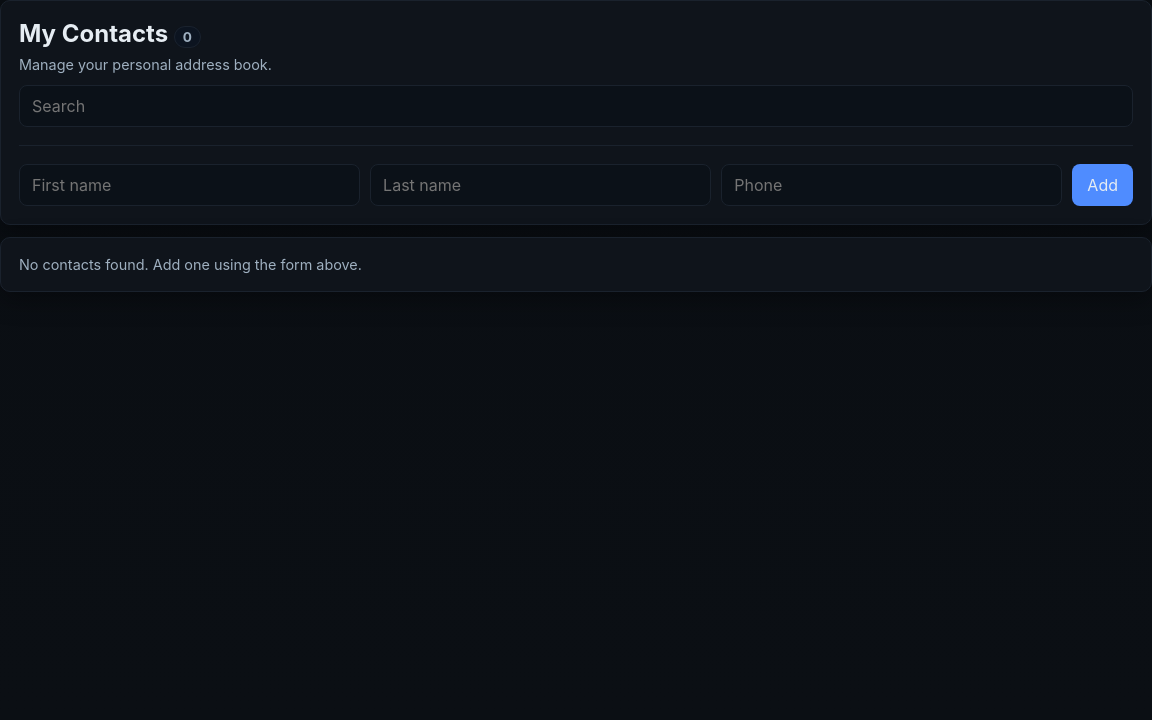
<Contacts /> › surfaces error when create fails
Expected: the text "No contacts found. Add one using the form above." is shown, [19,256,362,273]
Type "Dup" into the field with placeholder "First name" at (190, 185), box [19,164,360,206]
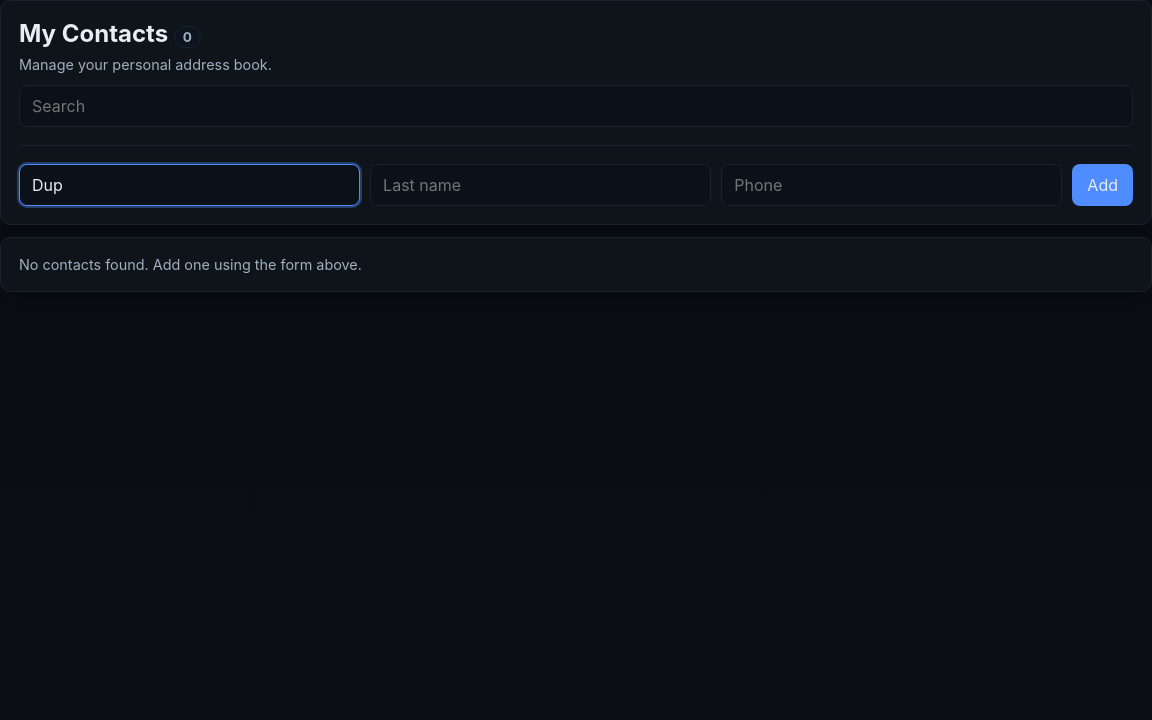
Type "X" into the field with placeholder "Last name" at (541, 185), box [370,164,711,206]
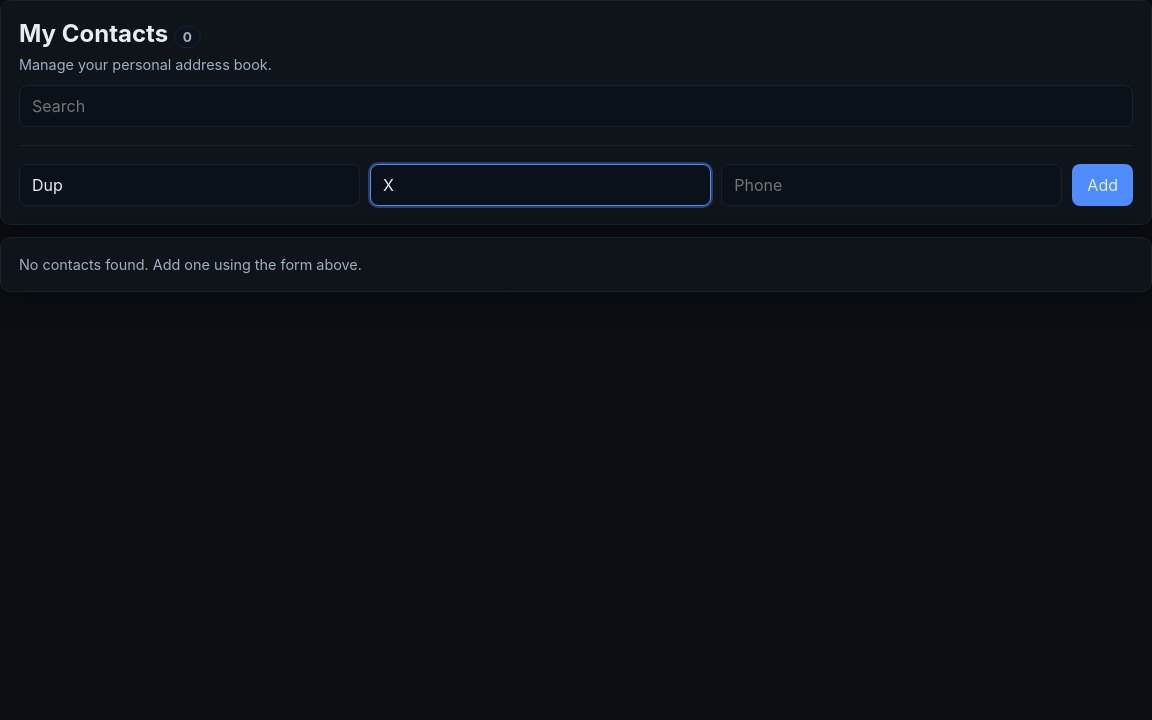
Type "0600000001" into the field with placeholder "Phone" at (892, 185), box [721,164,1062,206]
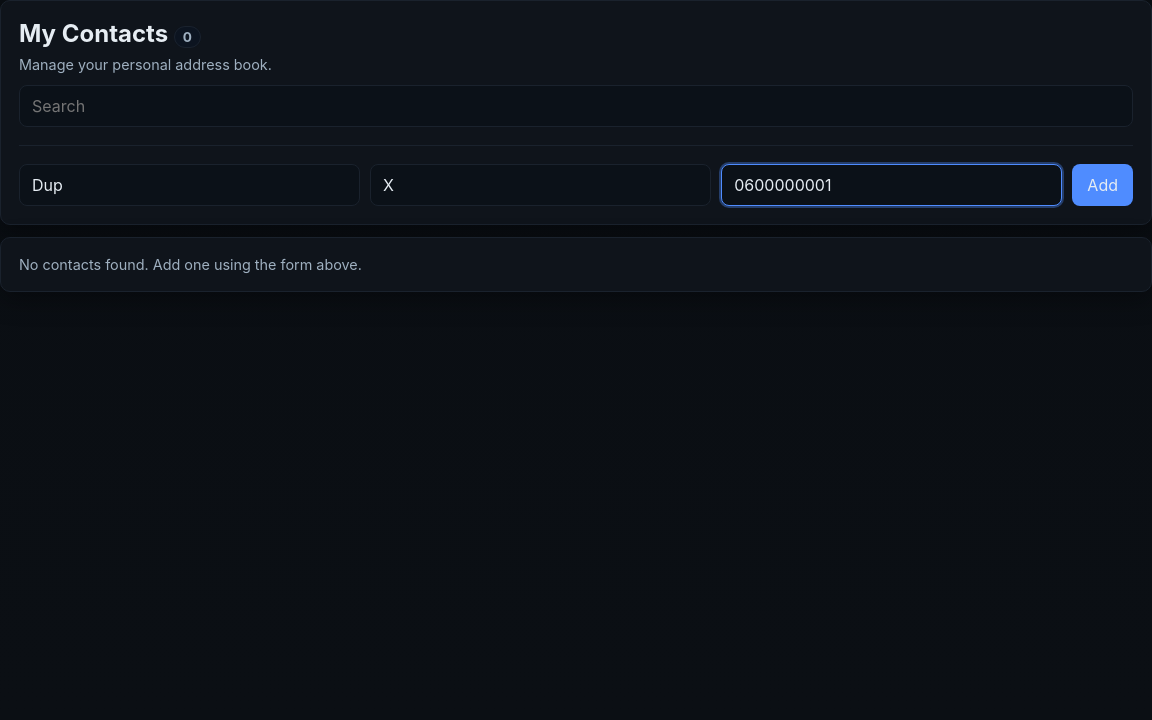
Click the button "Add" at (1103, 185), box [1072,164,1133,206]
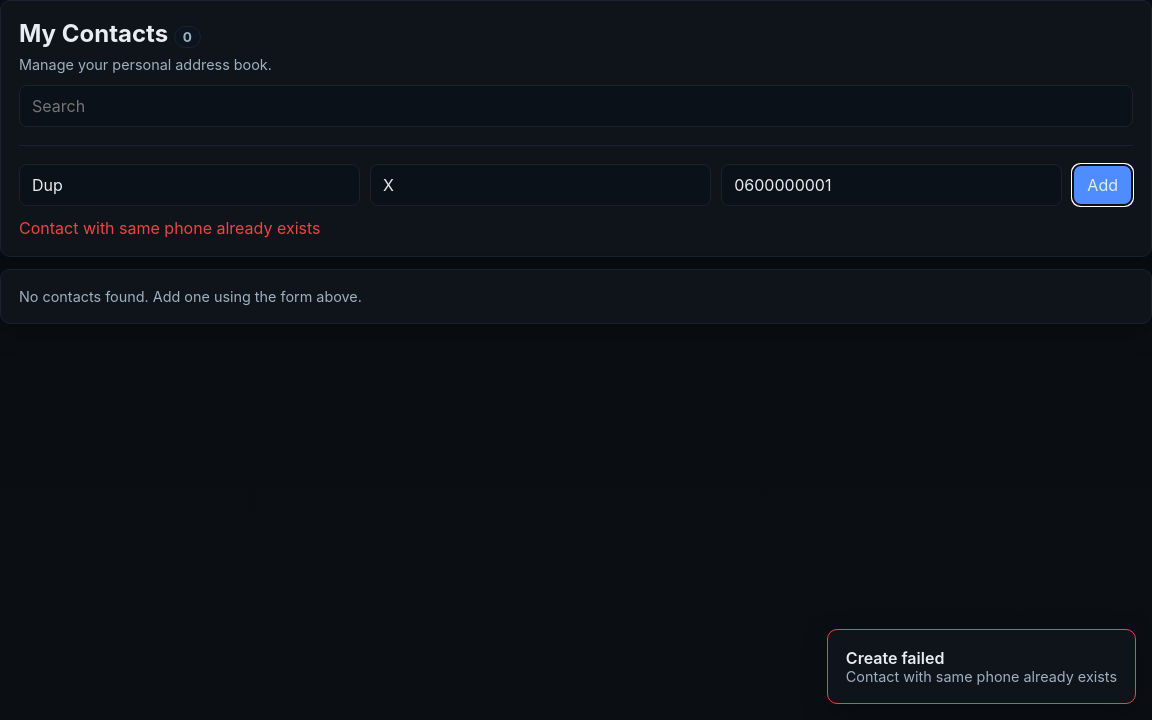
Expected: the text "Contact with same phone already exists" below "Manage your personal address book." is shown, [19,218,320,238]
